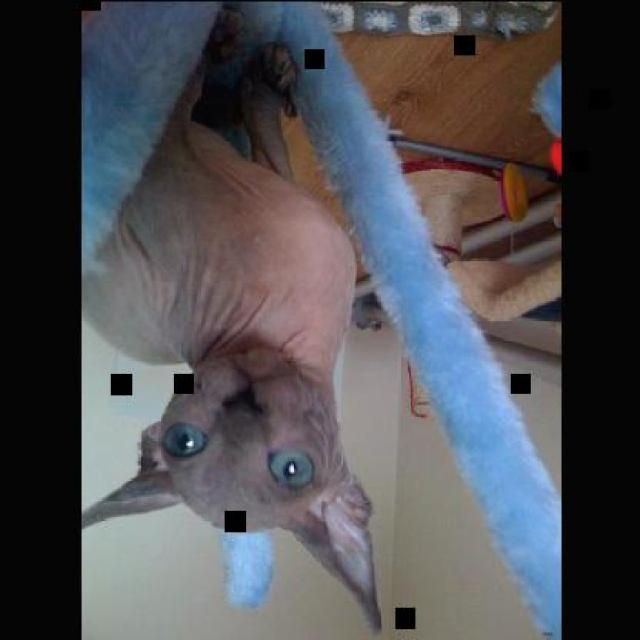unauthorized: (80, 0, 561, 638)
